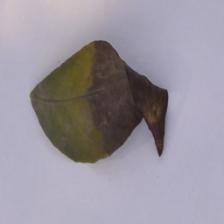black spot: (86, 35, 172, 164)
